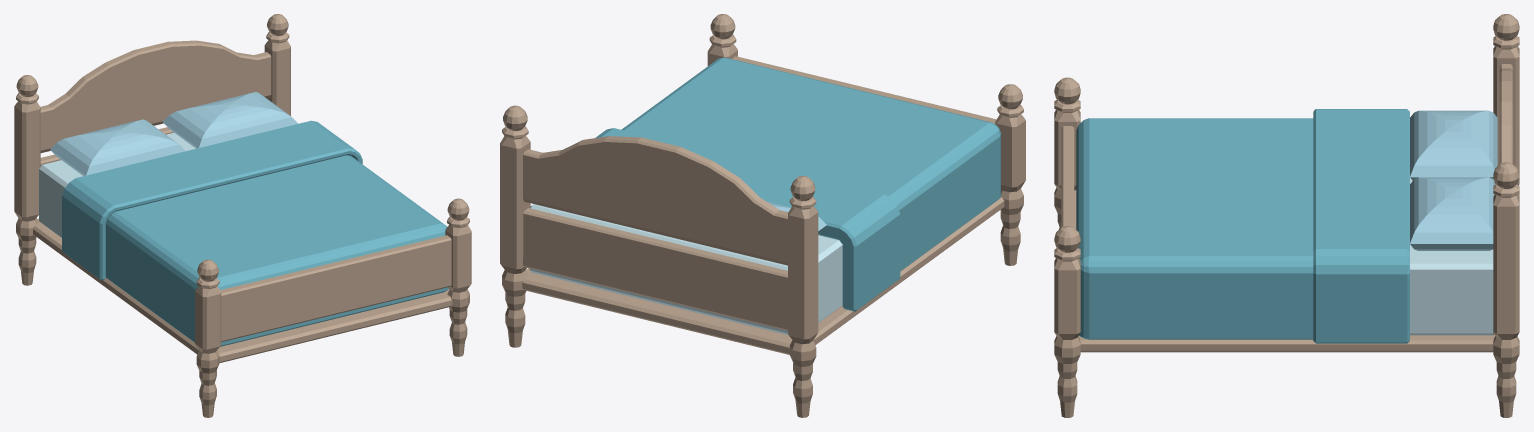
The model's file is Prop_Bedroom_Bed_Queen.fbx.
3 views of the same model, side by side, from view 1: azimuth 30°, elevation 25°; view 2: azimuth 150°, elevation 25°; view 3: azimuth 270°, elevation 25° (orthographic). The views are drawn at different scales.
Visible parts, largest first — view 1: object4.003, object5.002, object3.003, object1.007, object2.005; view 2: object5.002, object4.003, object2.005; view 3: object4.003, object5.002, object2.005, object1.007, object3.003.
Boxes of the visible parts, x1=… form: object4.003: x1=62, y1=120, x2=448, y2=346; object5.002: x1=14, y1=14, x2=471, y2=417; object3.003: x1=50, y1=119, x2=185, y2=176; object1.007: x1=163, y1=92, x2=298, y2=148; object2.005: x1=39, y1=132, x2=195, y2=237; object5.002: x1=500, y1=14, x2=1025, y2=417; object4.003: x1=595, y1=57, x2=1000, y2=311; object2.005: x1=529, y1=204, x2=842, y2=335; object4.003: x1=1076, y1=109, x2=1409, y2=343; object5.002: x1=1054, y1=14, x2=1519, y2=417; object2.005: x1=1410, y1=178, x2=1494, y2=335; object1.007: x1=1410, y1=177, x2=1495, y2=250; object3.003: x1=1410, y1=110, x2=1497, y2=180.
Size of the model in its own units: 215 by 158 by 265.
